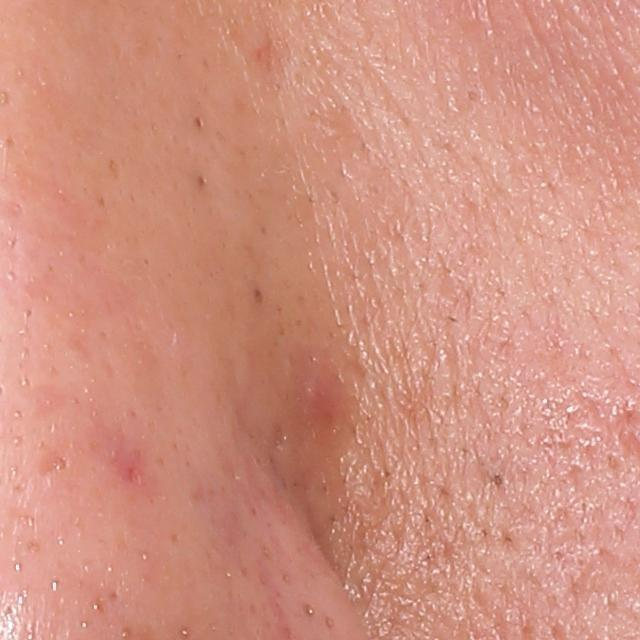atrophic_scar: (34, 445, 70, 479)
comedo: (193, 170, 212, 191)
